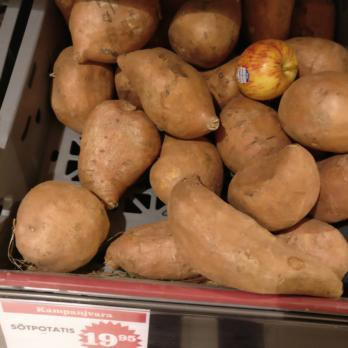Sweet potato: (49, 0, 348, 139), (160, 140, 348, 290), (10, 179, 109, 273), (78, 98, 161, 206)
